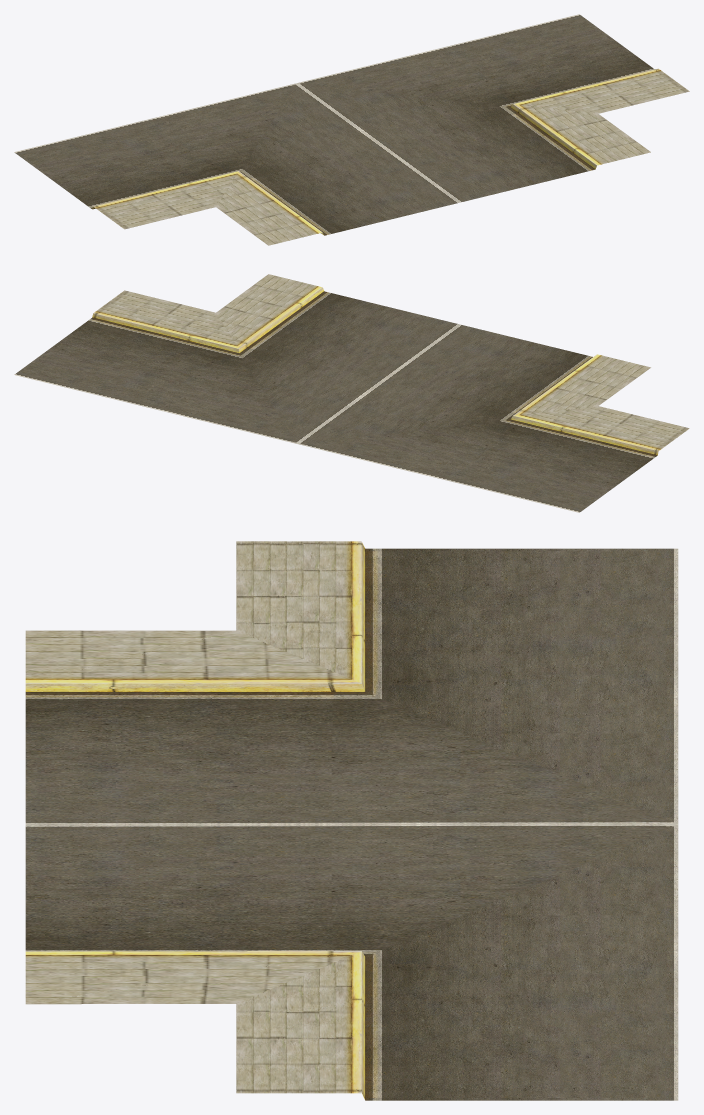
The model's file is Road3_T_A.fbx.
3 views of the same model, one above another, from view 1: azimuth 30°, elevation 25°; view 2: azimuth 150°, elevation 25°; view 3: azimuth 270°, elevation 25° (orthographic). The views are drawn at different scales.
Visible parts, largest first — view 1: Road_T_A; view 2: Road_T_A; view 3: Road_T_A.
Part boxes in pixels (<box>): Road_T_A: <box>14,14,689,245</box>; Road_T_A: <box>14,274,689,512</box>; Road_T_A: <box>25,541,678,1100</box>.
Bounding box in the file's own units: 3331 × 20.38 × 1666.
